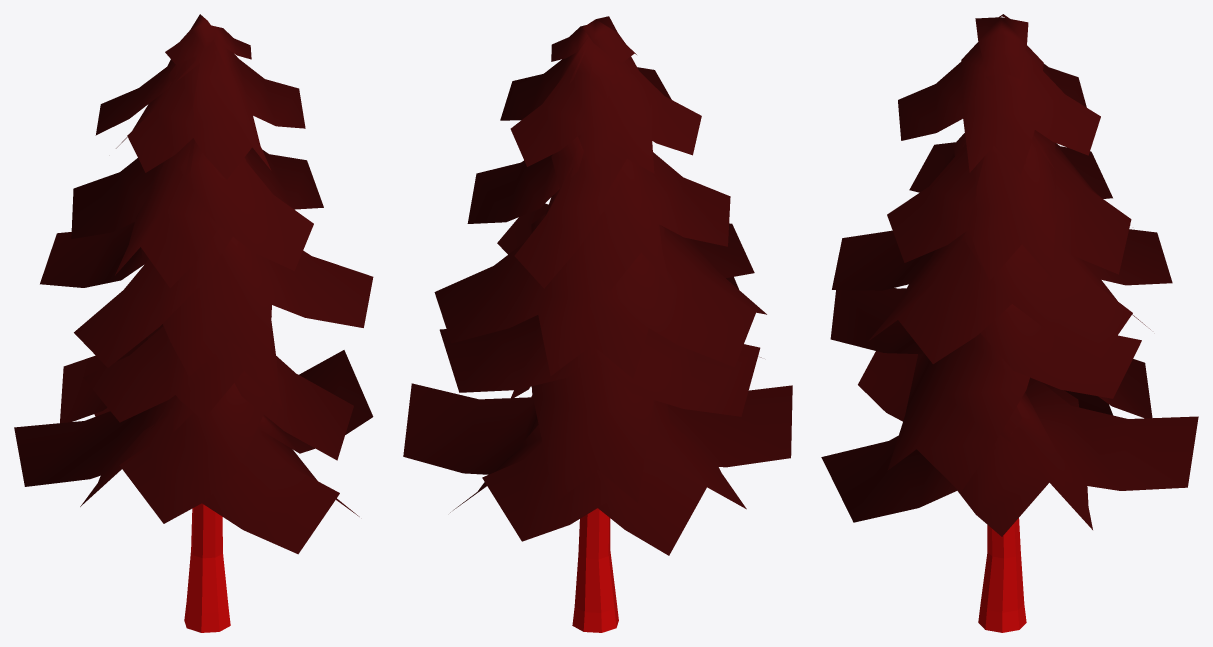
Rendered from SM_Tree_Pine_Small_01.gltf.
3 renders of one model, left to right at view 1: azimuth 30°, elevation 25°; view 2: azimuth 150°, elevation 25°; view 3: azimuth 270°, elevation 25°, orthographic.
Visible parts, largest first — view 1: SM_Tree_Pine_Small_01; view 2: SM_Tree_Pine_Small_01; view 3: SM_Tree_Pine_Small_01.
Part boxes in pixels (<box>): SM_Tree_Pine_Small_01: <box>14,14,373,632</box>; SM_Tree_Pine_Small_01: <box>403,16,792,632</box>; SM_Tree_Pine_Small_01: <box>821,14,1198,632</box>.
Size of the model in its own units: 2.01 by 3.48 by 1.96.
